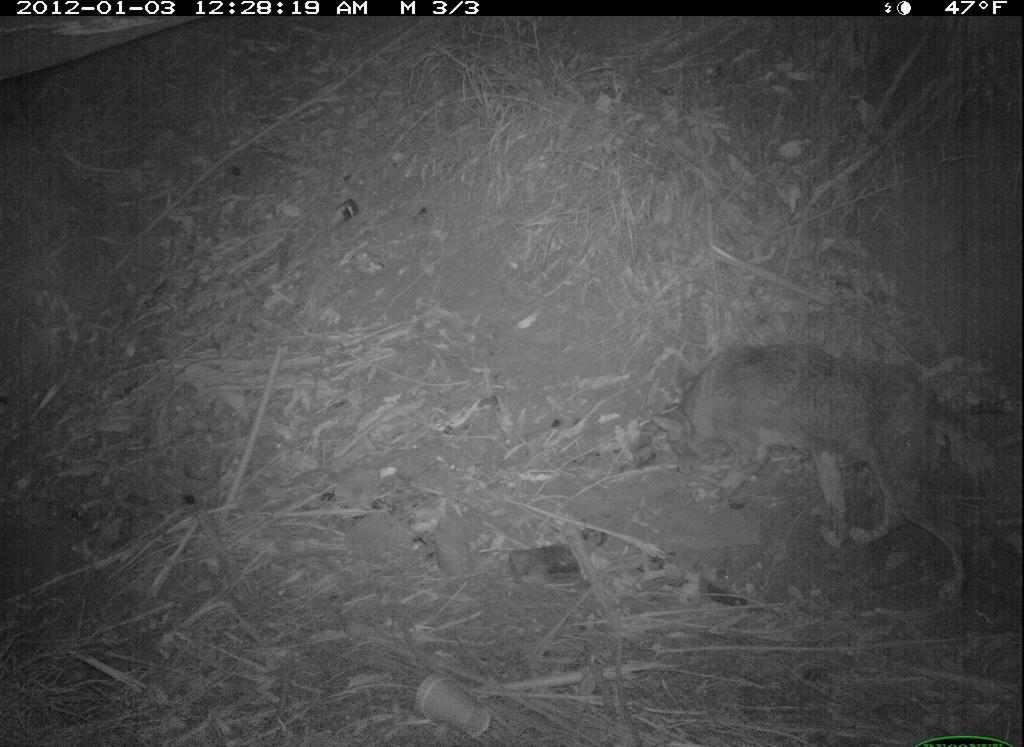coyote: (652, 341, 985, 609)
